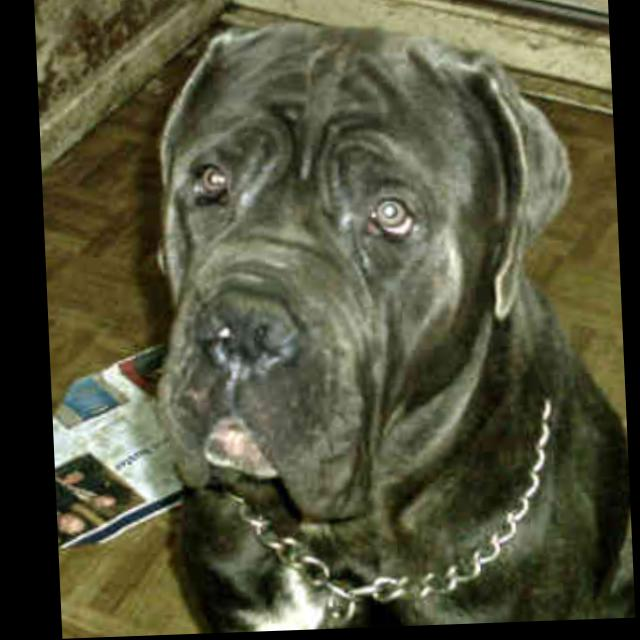mastino_napoletano: (136, 13, 629, 637)
